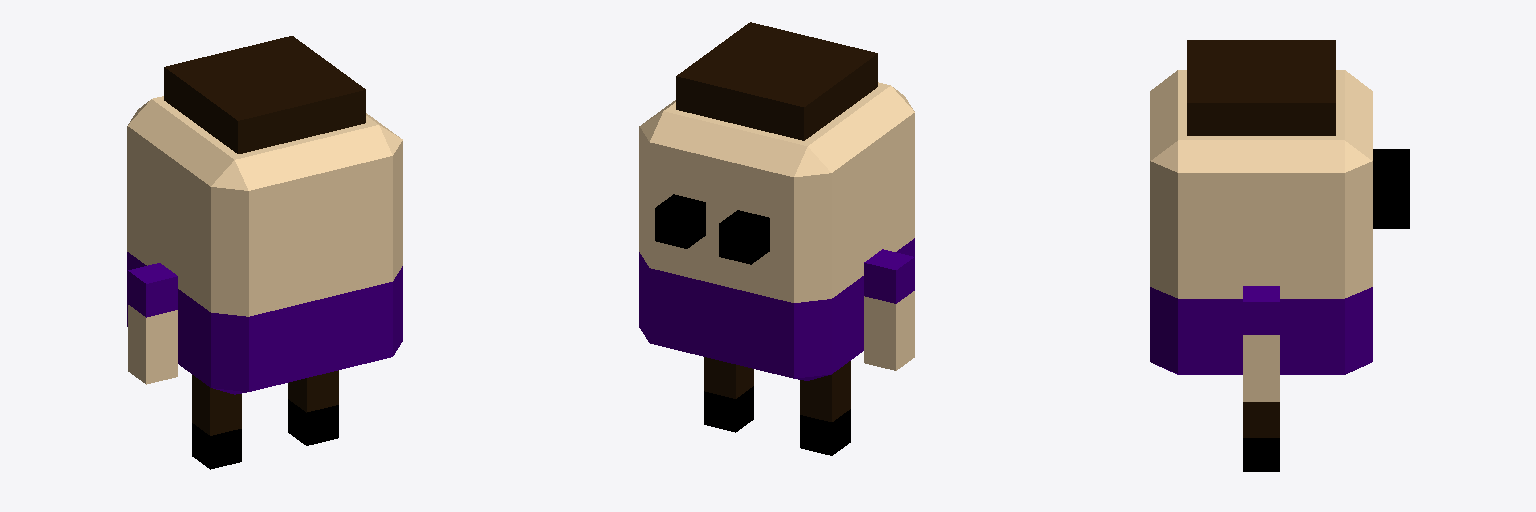
The model's file is Civilian.obj.
3 renders of one model, left to right at view 1: azimuth 30°, elevation 25°; view 2: azimuth 150°, elevation 25°; view 3: azimuth 270°, elevation 25°, orthographic.
Visible parts, largest first — view 1: block_rounded_0, block_rounded_8, block_default_17, block_default_13, block_default_14, block_default_10, block_default_9, block_default_11, block_default_2; view 2: block_rounded_0, block_rounded_8, block_default_17, block_default_13, block_default_7, block_default_14, block_default_6, block_default_10, block_default_11, block_default_9, block_default_2; view 3: block_rounded_0, block_default_17, block_rounded_8, block_default_4, block_default_7, block_default_12, block_default_2, block_default_9, block_default_6.
Part boxes in pixels (left/top/right/bottom): block_rounded_0: left=127, top=96, right=402, bottom=316; block_rounded_8: left=127, top=252, right=402, bottom=394; block_default_17: left=164, top=36, right=365, bottom=153; block_default_13: left=128, top=305, right=177, bottom=384; block_default_14: left=128, top=263, right=177, bottom=317; block_default_10: left=192, top=375, right=241, bottom=435; block_default_9: left=288, top=399, right=338, bottom=445; block_default_11: left=192, top=423, right=241, bottom=469; block_default_2: left=288, top=370, right=338, bottom=412; block_rounded_0: left=639, top=82, right=914, bottom=302; block_rounded_8: left=639, top=238, right=914, bottom=380; block_default_17: left=676, top=22, right=877, bottom=140; block_default_13: left=864, top=291, right=914, bottom=370; block_default_7: left=655, top=194, right=705, bottom=248; block_default_14: left=864, top=249, right=914, bottom=303; block_default_6: left=719, top=210, right=769, bottom=264; block_default_10: left=800, top=361, right=850, bottom=421; block_default_11: left=800, top=409, right=850, bottom=455; block_default_9: left=704, top=386, right=753, bottom=432; block_default_2: left=704, top=357, right=753, bottom=398; block_rounded_0: left=1150, top=70, right=1372, bottom=298; block_default_17: left=1187, top=40, right=1335, bottom=135; block_rounded_8: left=1150, top=287, right=1372, bottom=374; block_default_4: left=1243, top=335, right=1279, bottom=401; block_default_7: left=1373, top=180, right=1409, bottom=228; block_default_12: left=1243, top=286, right=1279, bottom=334; block_default_2: left=1243, top=402, right=1279, bottom=437; block_default_9: left=1243, top=438, right=1279, bottom=471; block_default_6: left=1373, top=149, right=1409, bottom=179.
Size of the model in its own units: 0.8 by 1.1 by 0.7.